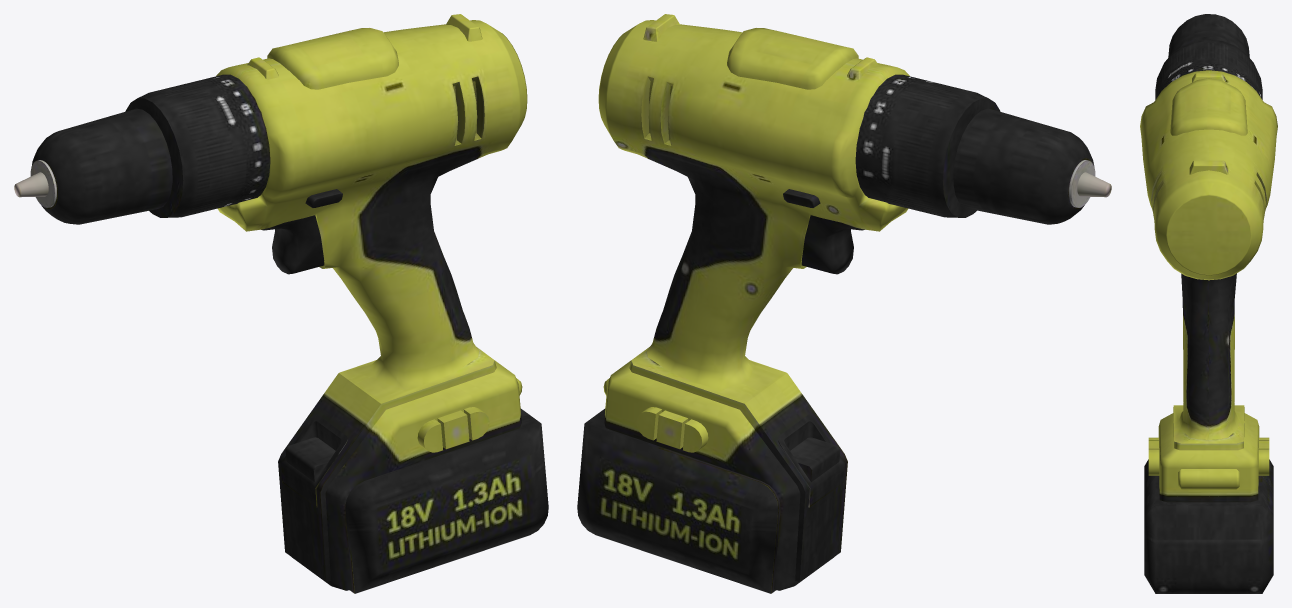
Rendered from drill.glb.
The picture shows the model from 3 angles, left to right: view 1: azimuth 30°, elevation 25°; view 2: azimuth 150°, elevation 25°; view 3: azimuth 270°, elevation 25°; orthographic projection. The views are drawn at different scales.
Parts seen in each view (by area): view 1: Drill_01; view 2: Drill_01; view 3: Drill_01.
Part boxes in pixels (x1,y1,x2,y2): Drill_01: (14, 14, 548, 593); Drill_01: (577, 14, 1111, 593); Drill_01: (1140, 14, 1277, 593).
Bounding box in the file's own units: 0.1829 × 0.1851 × 0.0524.
1 material, 1 textured.
